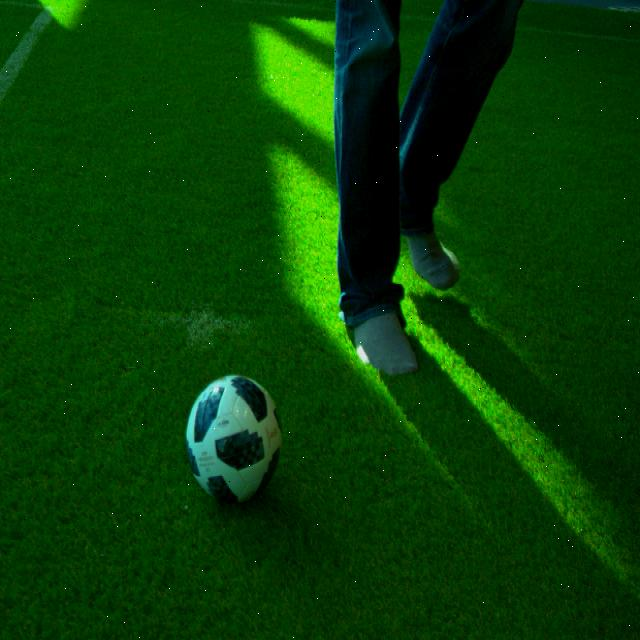ball: (186, 377, 282, 504)
